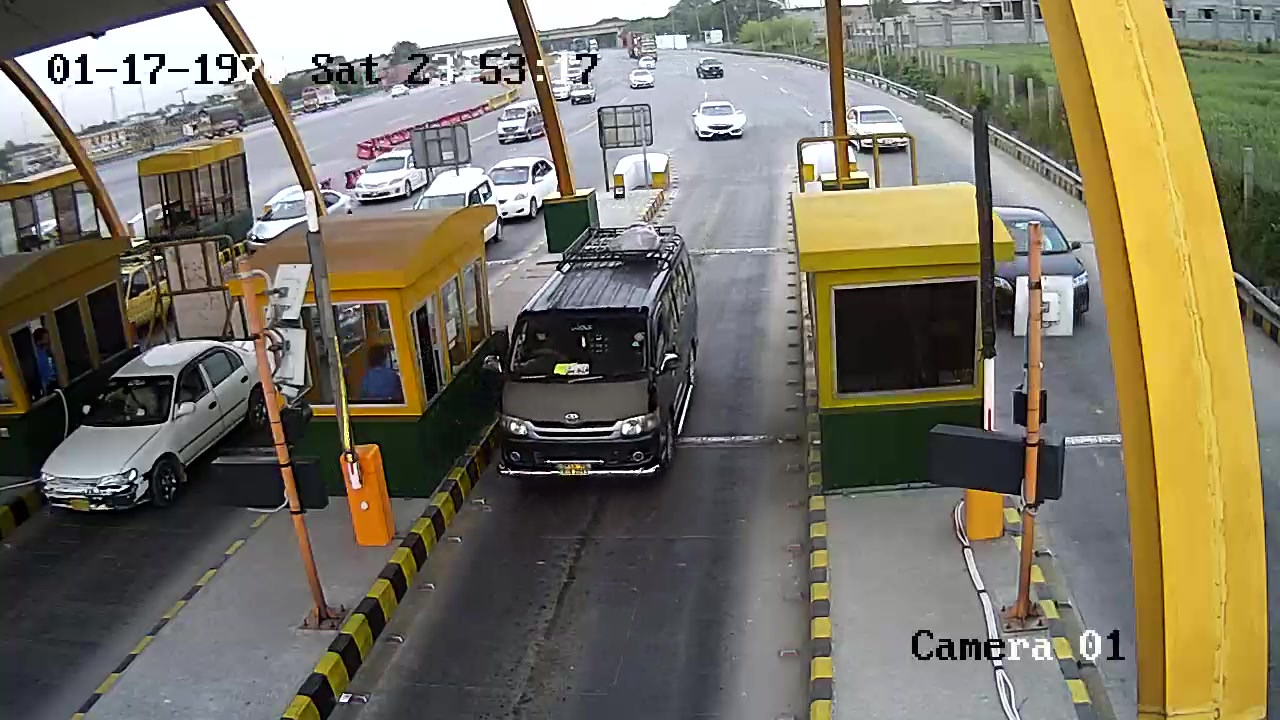F3: (492, 218, 714, 490)
